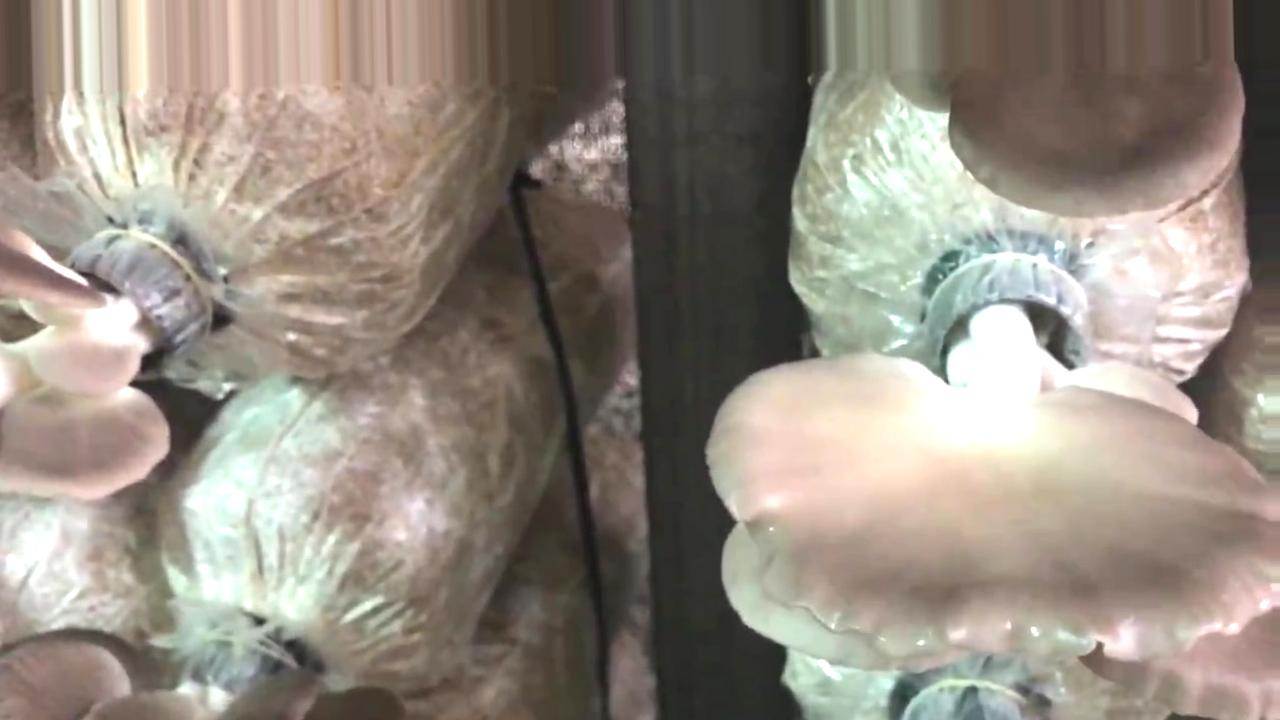nam: (699, 256, 1280, 670), (1, 221, 220, 505), (896, 60, 1245, 220)
